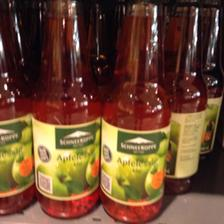Essig: (24, 2, 100, 218), (101, 1, 167, 222), (1, 0, 36, 216)
